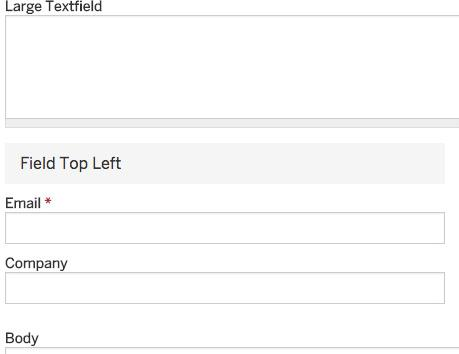field: (4, 211, 448, 245), (3, 271, 446, 304)
field_with_label: (1, 194, 450, 247)
